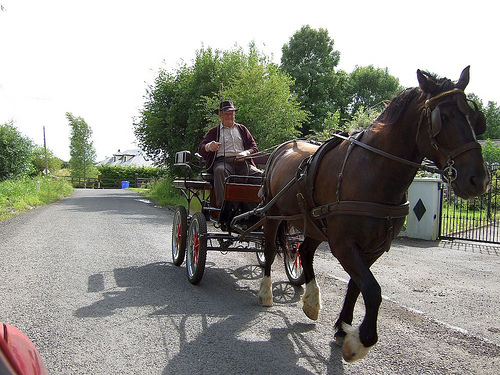horse: (257, 66, 488, 365)
